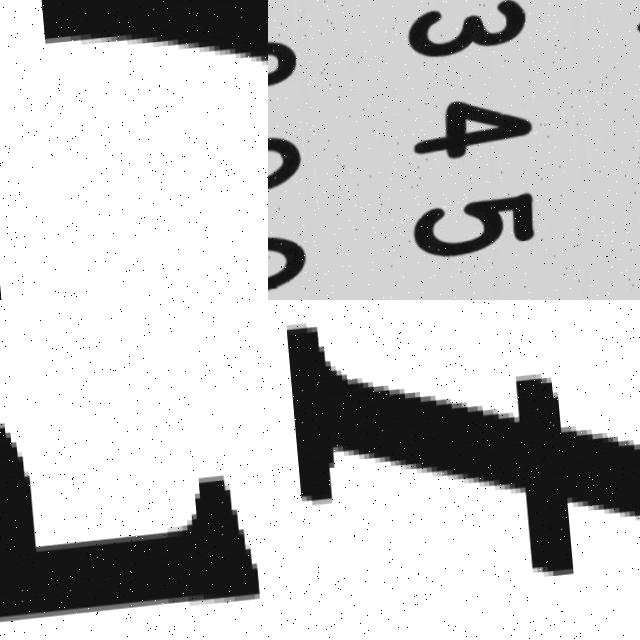0: (268, 207, 340, 300)
3: (393, 0, 542, 75)
4: (390, 73, 550, 183)
5: (394, 168, 570, 281)
6: (398, 267, 572, 300)
7: (29, 0, 268, 216)
8: (268, 12, 330, 129)
9: (268, 109, 348, 223)
D: (0, 321, 268, 640)
F: (279, 300, 640, 640)
